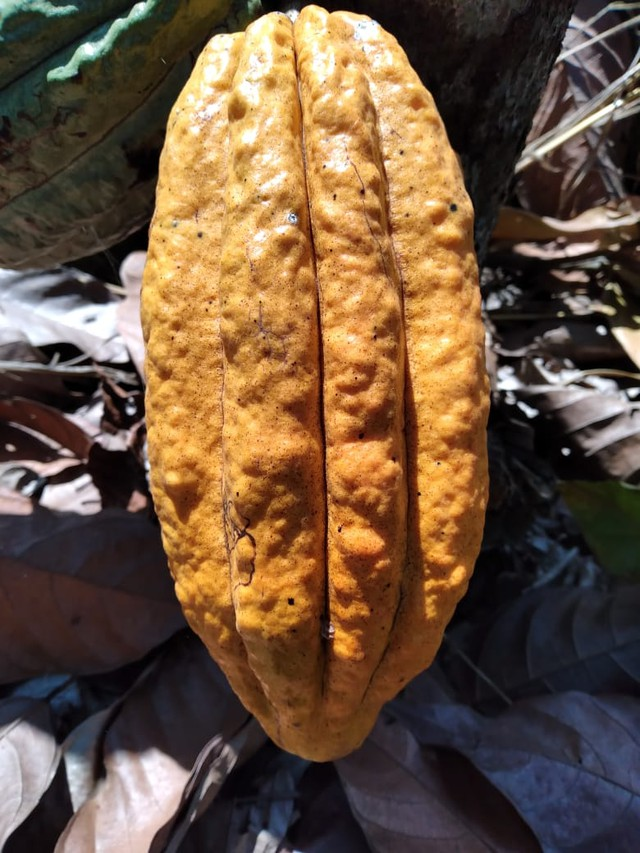Health: (134, 4, 496, 772)
